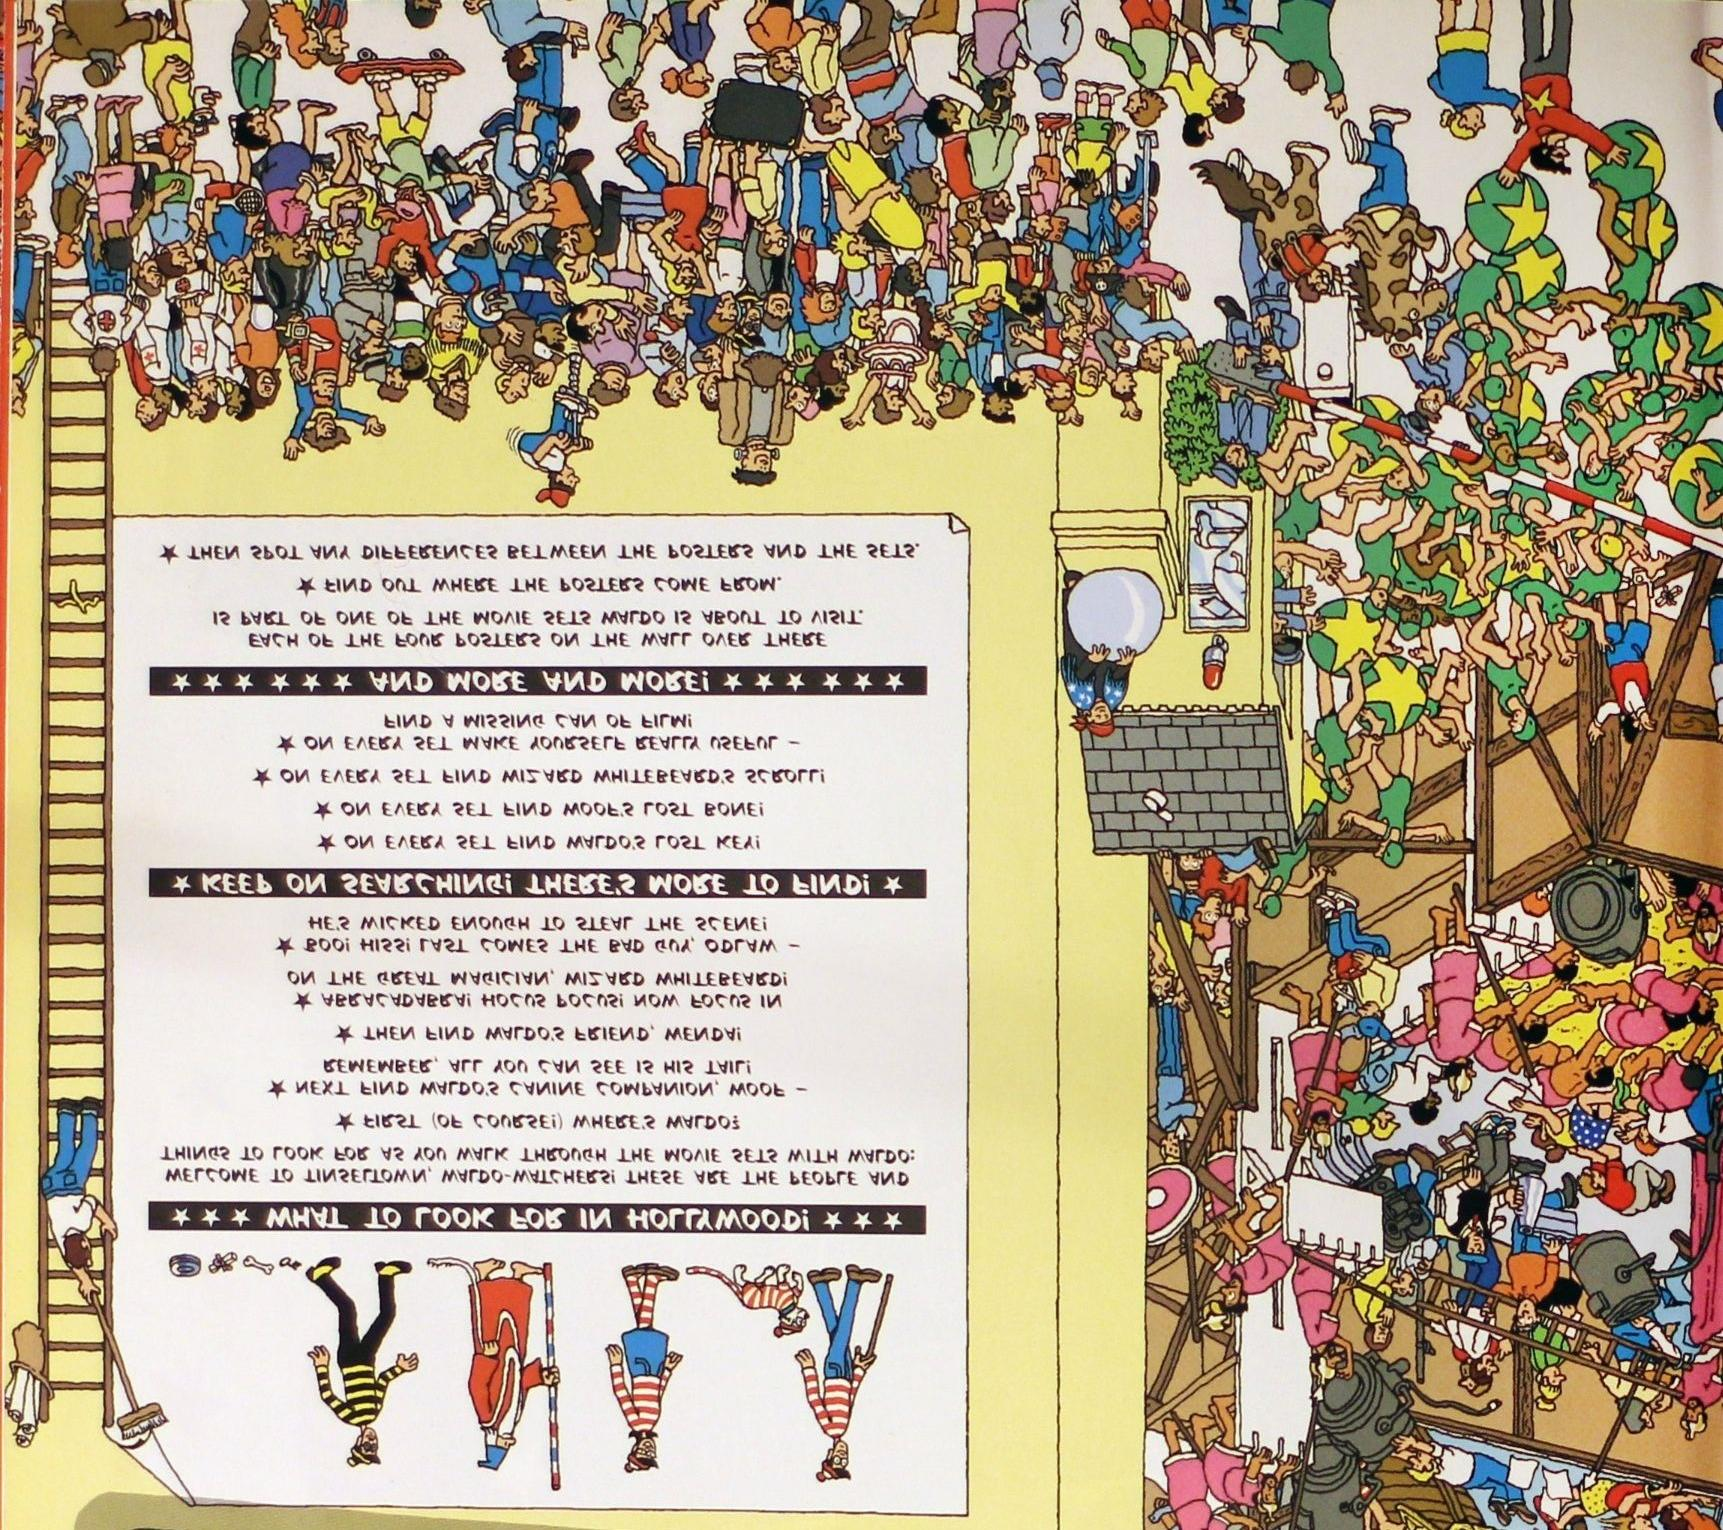waldos: (793, 1266, 893, 1481)
